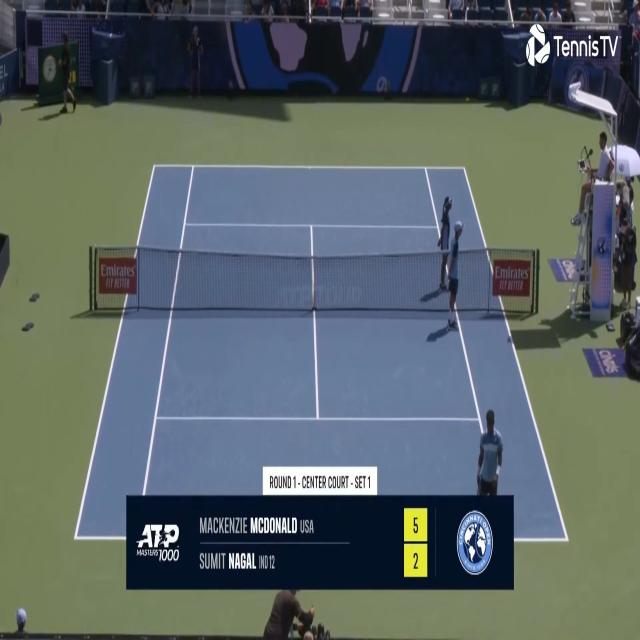tennis-player: (474, 405, 506, 511)
